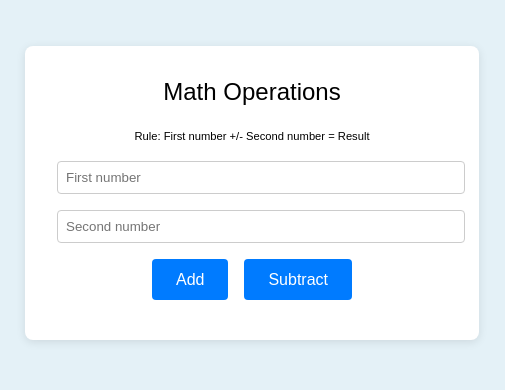
Scenario: handles fetch error for addition
Type "10" into the number field with placeholder "First number" at {"x": 261, "y": 178}, box [57,161,465,194]
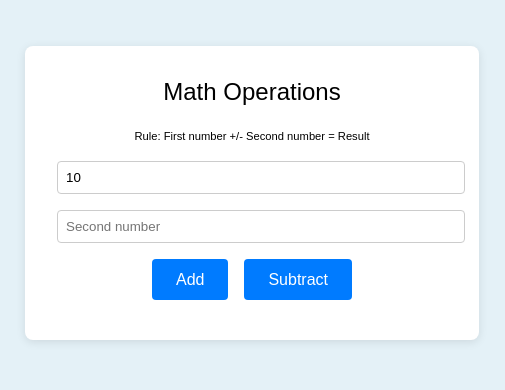
Type "2" into the number field with placeholder "Second number" at {"x": 261, "y": 227}, box [57,210,465,243]
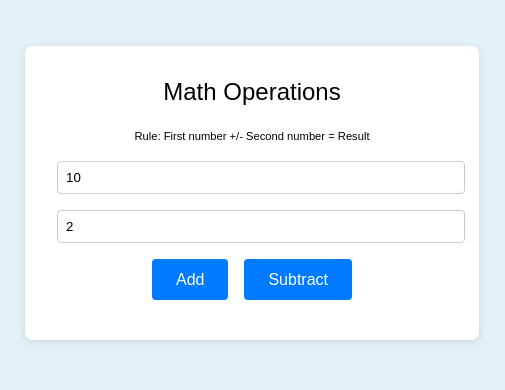
Click the button "Add" at {"x": 190, "y": 280}, box [152,259,228,300]
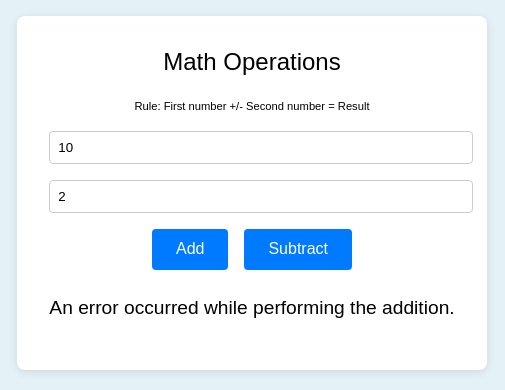
Now the text "An error occurred while performing the addition." is shown, box [49,297,455,319]
